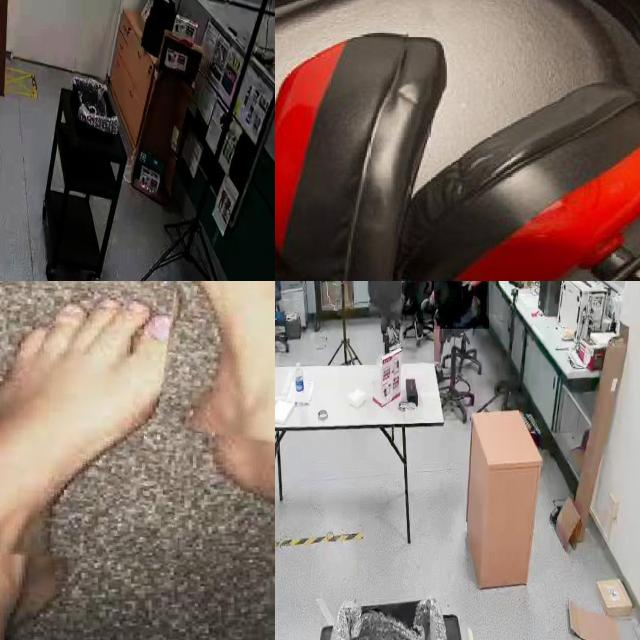Barefoots: (0, 291, 185, 612), (185, 281, 275, 498)
Ear-protection: (275, 0, 640, 281)
person: (431, 281, 489, 330), (401, 281, 434, 341)
